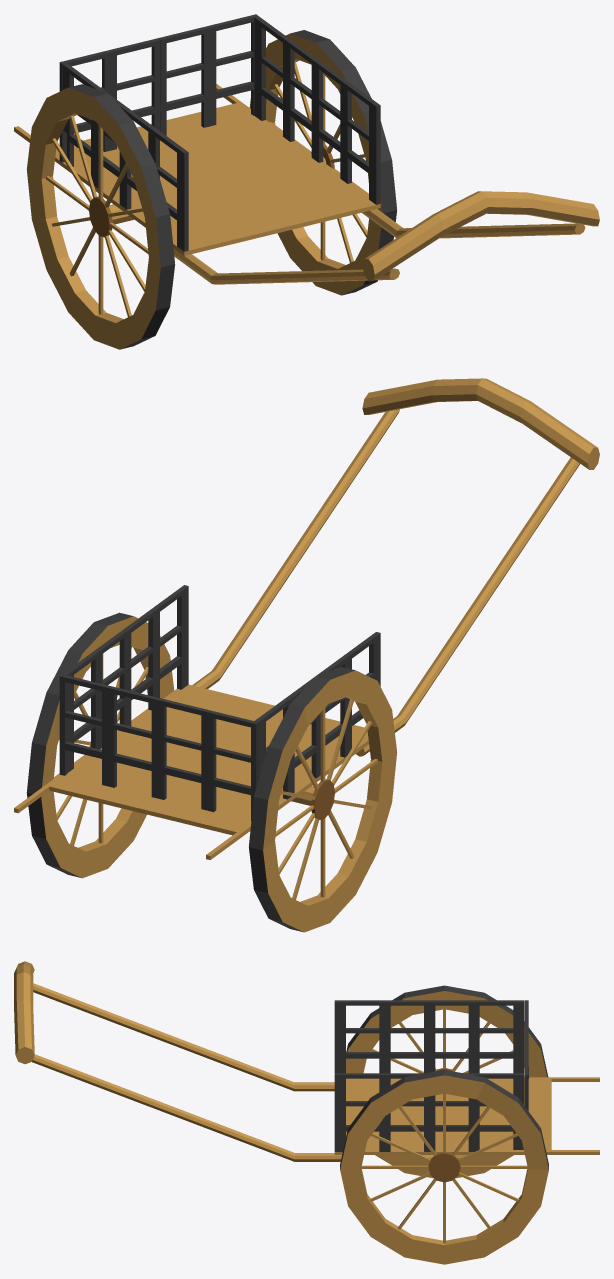
Rendered from ReinforcedExtra.fbx.
The picture shows the model from 3 angles, top to bottom: view 1: azimuth 30°, elevation 25°; view 2: azimuth 150°, elevation 25°; view 3: azimuth 270°, elevation 25°; orthographic projection. The views are drawn at different scales.
Visible parts, largest first — view 1: Light; view 2: Light; view 3: Light.
Boxes of the visible parts, x1,y1,x2,y2 form: Light: (14,14,599,349); Light: (14,378,599,932); Light: (14,961,599,1264).
Bounding box in the file's own units: 1.32 × 1.7 × 3.65.
